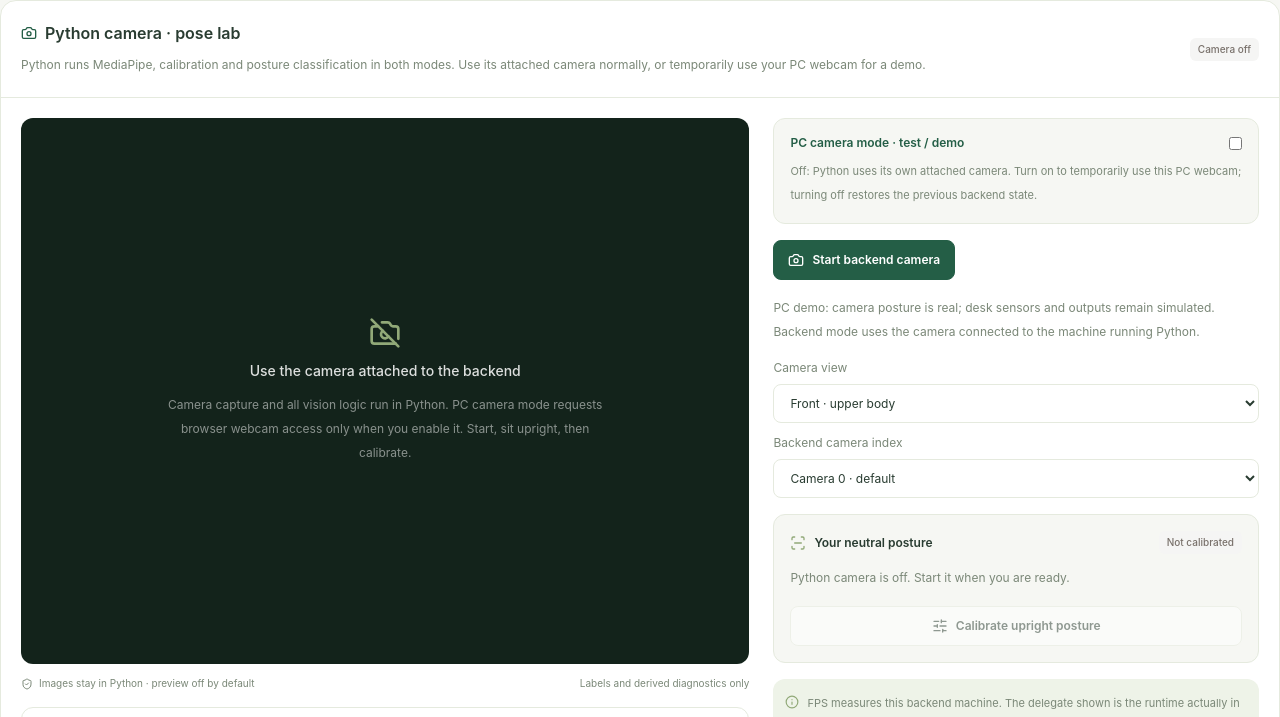
Test: Python camera controls and monitoring › starts the selected backend camera and displays Python results without publishing browser metadata
Select "Camera 2" in the dropdown labelled "Backend camera index": [1016, 478] box [773,459,1259,498]
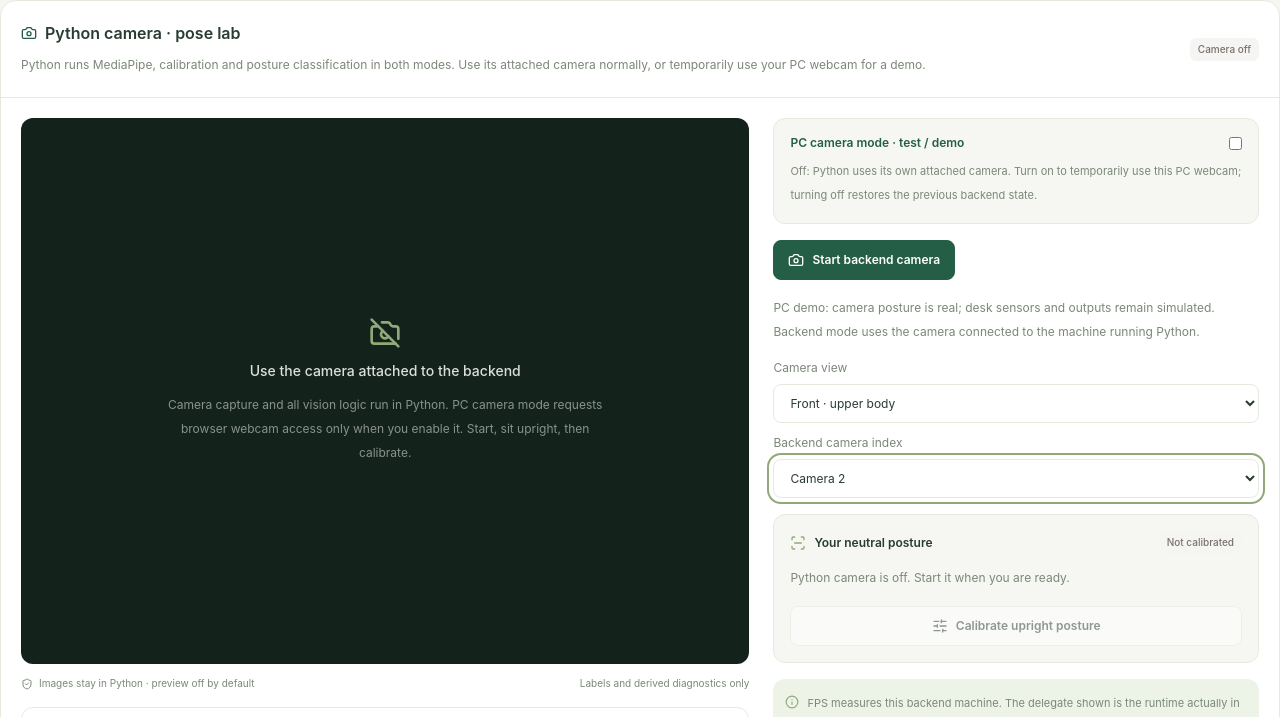
Click the button "Start backend camera": [864, 260] box [773,240,955,280]
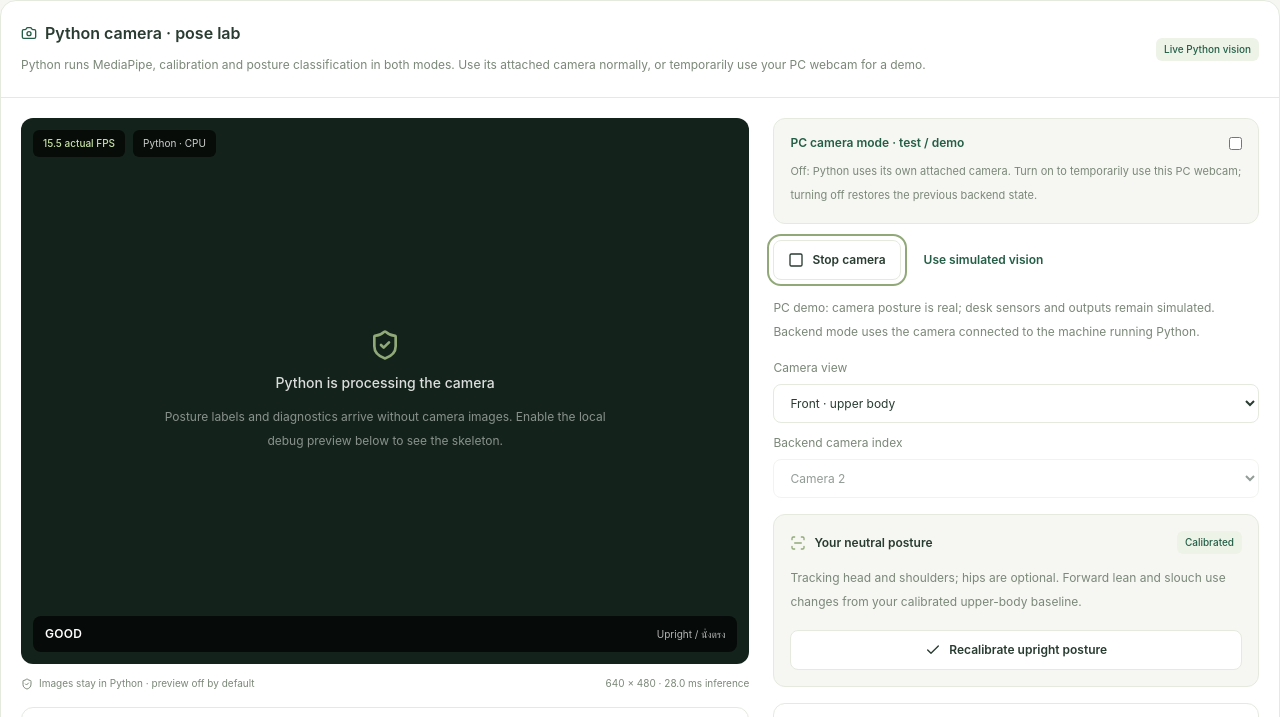
Result: the text "Live Python vision" is shown at [1156,38,1259,60]
Result: the text "15.5 actual FPS" is shown at [33,130,125,157]
Result: the text "Python · CPU" is shown at [133,130,216,157]
